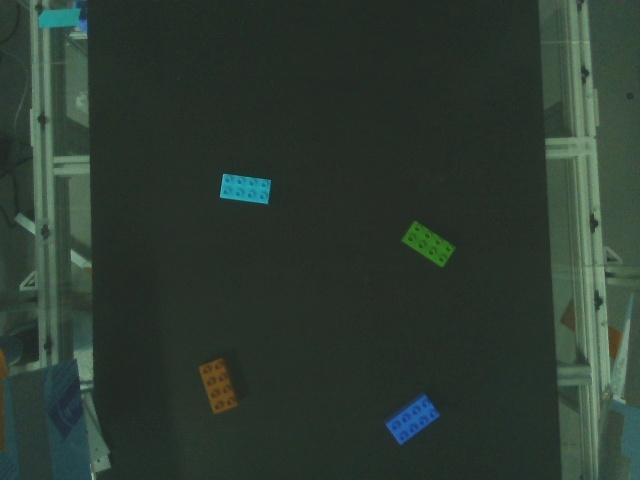plastic: (387, 394, 438, 448), (403, 219, 457, 269), (200, 358, 238, 416), (219, 172, 272, 206)
